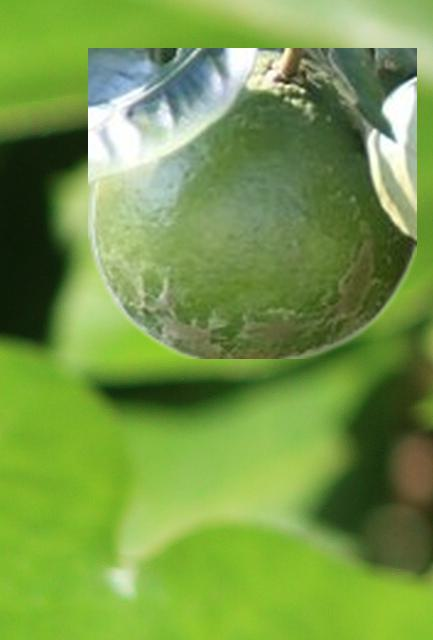dalandan: (88, 48, 415, 357)
